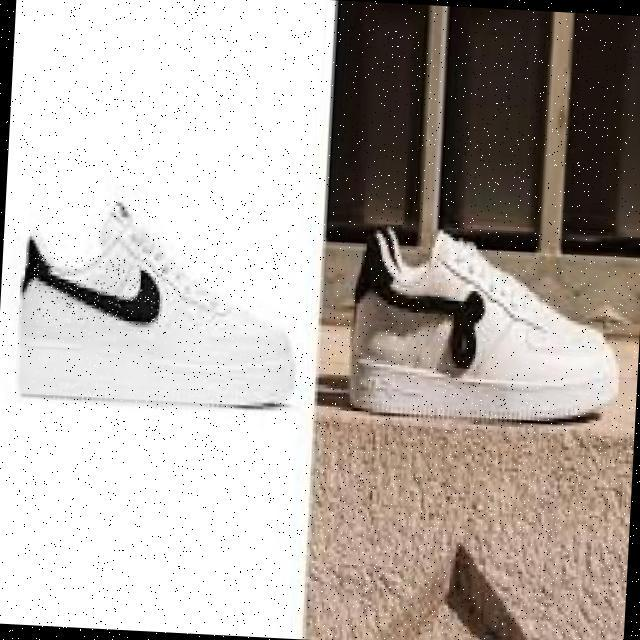Nike: (32, 255, 171, 328)
